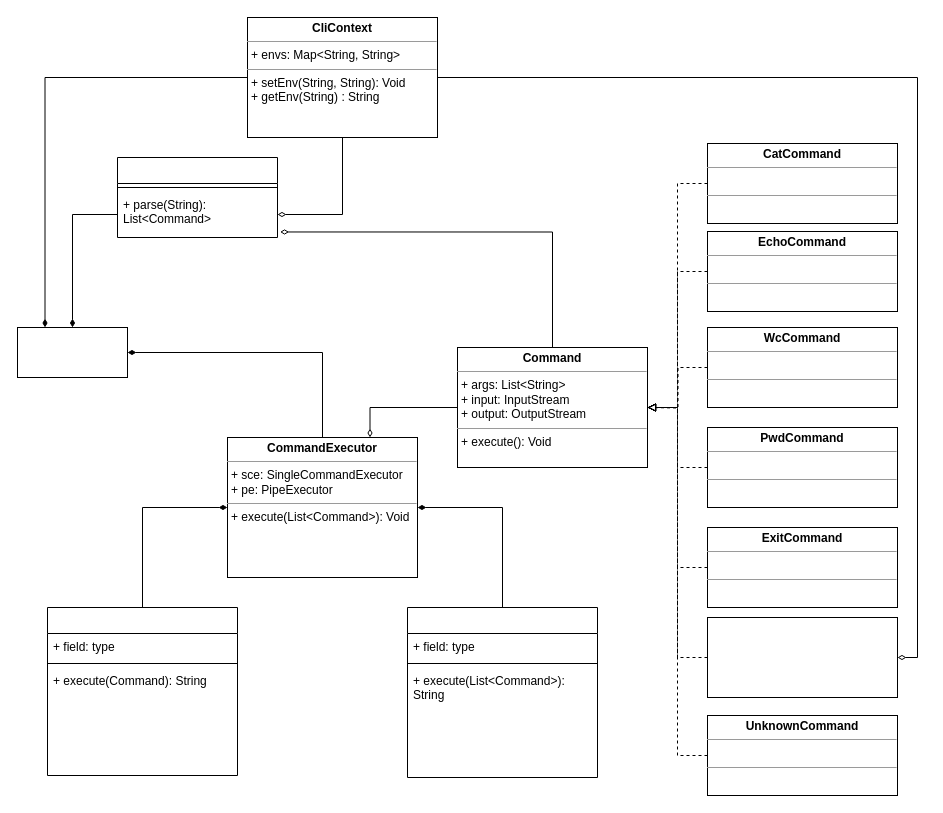
Image size: 943x813. Some labels were removed from this diagram. The box of each missing label's shape, as (x1, y1, x2, y2) in pixels:
AssignCommand: (706, 616, 898, 698)
CliInterpretator: (16, 326, 128, 378)
PipeExecutor: (406, 606, 598, 778)
SingleCommandExecutor: (46, 606, 238, 776)
UserInputParser: (116, 156, 278, 238)
